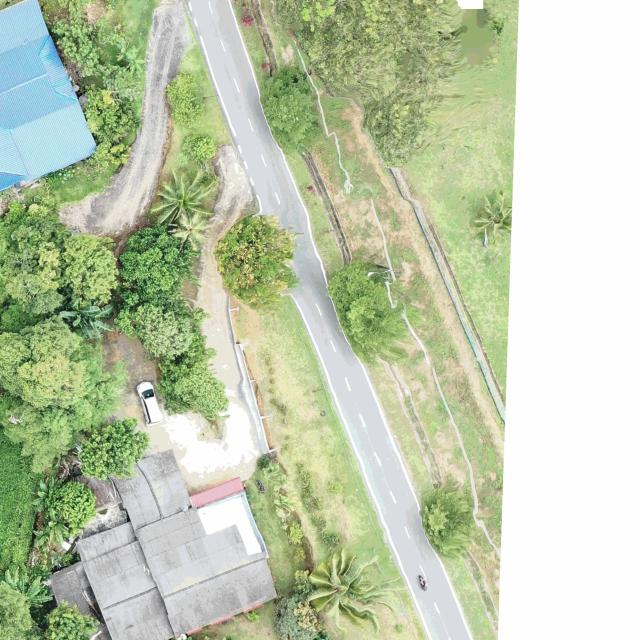Tree: (214, 212, 301, 310), (0, 314, 87, 404), (322, 258, 397, 352), (306, 546, 389, 627), (119, 226, 203, 305), (0, 404, 82, 475), (76, 416, 152, 482), (260, 66, 314, 144), (149, 166, 218, 227), (81, 83, 142, 141), (0, 582, 45, 640), (59, 297, 117, 342), (48, 478, 98, 529), (44, 598, 102, 640), (271, 591, 320, 640), (164, 71, 204, 130), (0, 566, 54, 609), (474, 191, 512, 245), (34, 509, 74, 548), (31, 478, 61, 515)
